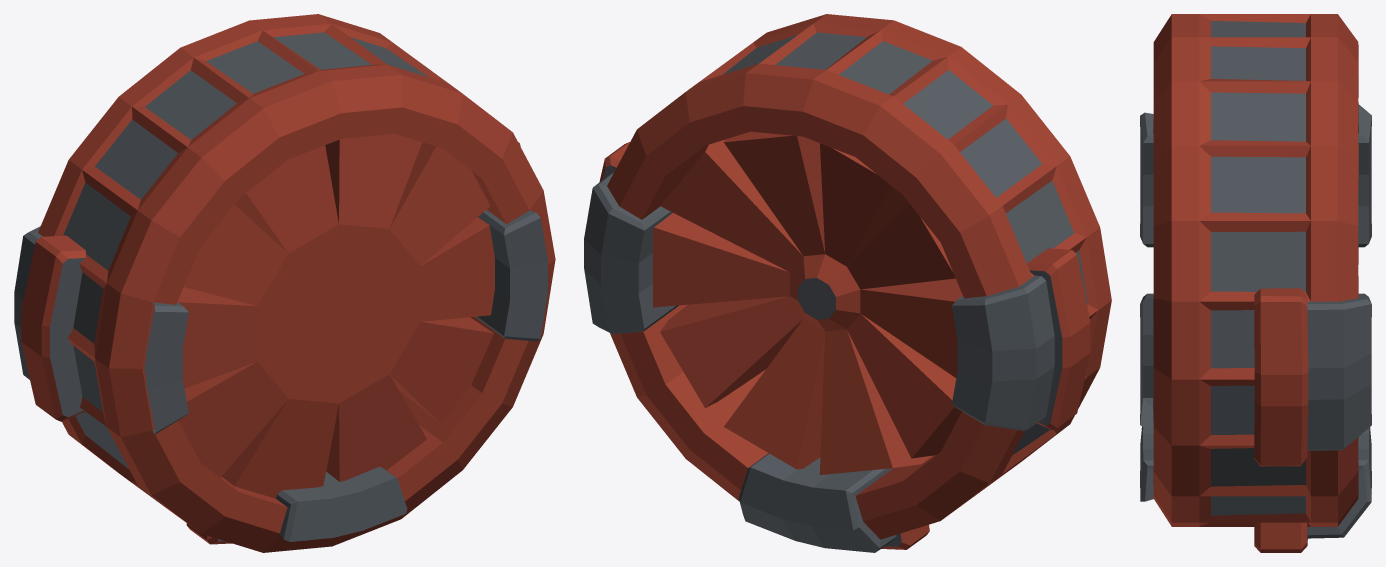
File: Dropship_02_Hover_Blade_Red.fbx
3 renders of one model, left to right at view 1: azimuth 30°, elevation 25°; view 2: azimuth 150°, elevation 25°; view 3: azimuth 270°, elevation 25°, orthographic. The views are drawn at different scales.
Parts seen in each view (by area): view 1: Dropship_02_Hover_Blade_Red; view 2: Dropship_02_Hover_Blade_Red; view 3: Dropship_02_Hover_Blade_Red.
Part boxes in pixels (<box>): Dropship_02_Hover_Blade_Red: <box>14,14,555,552</box>; Dropship_02_Hover_Blade_Red: <box>584,14,1111,552</box>; Dropship_02_Hover_Blade_Red: <box>1140,14,1371,552</box>.
Bounding box in the file's own units: 483 × 459 × 197.
1 material, 1 textured.
